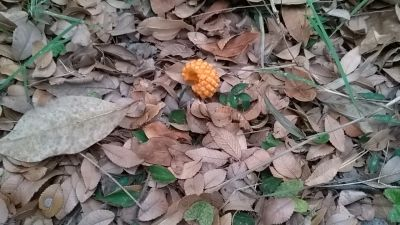eggs: (182, 59, 222, 99)
